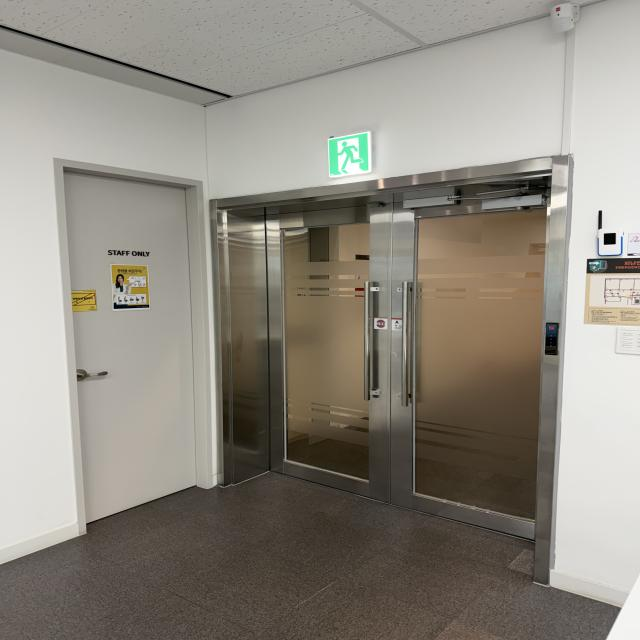rear_door: (218, 196, 546, 539)
